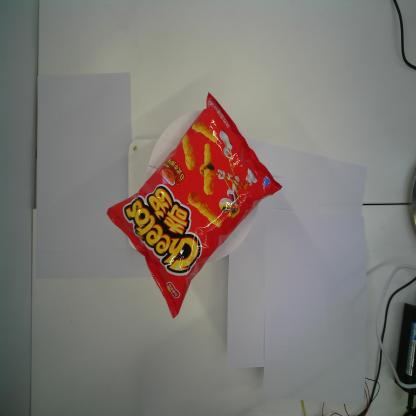Puffed Food: (101, 88, 284, 320)
